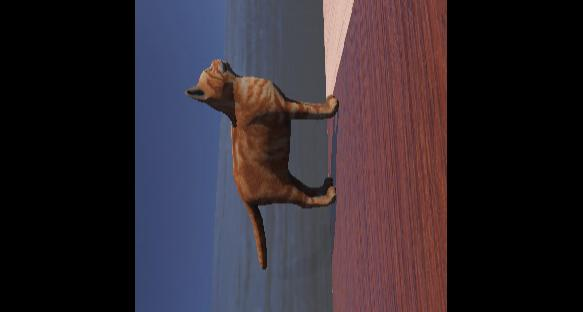Cat: (180, 42, 354, 298)
